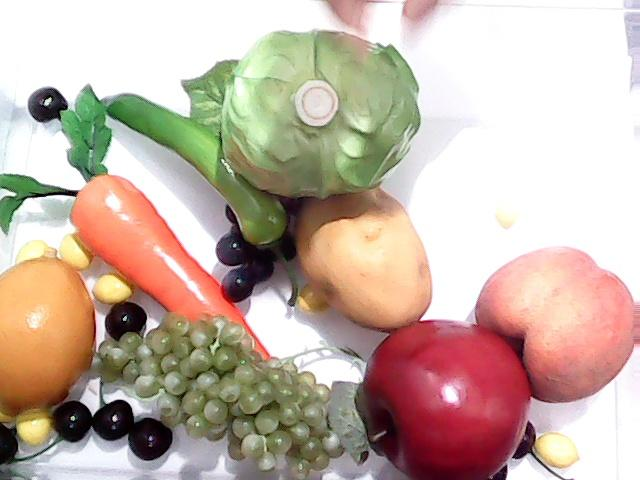apple: (362, 320, 534, 480)
cabbage: (220, 25, 420, 203)
carrot: (0, 82, 272, 362)
grape: (96, 310, 352, 480)
lemon: (0, 246, 98, 418)
peach: (475, 246, 640, 404)
pepper: (79, 76, 295, 244)
potato: (295, 180, 435, 332)
